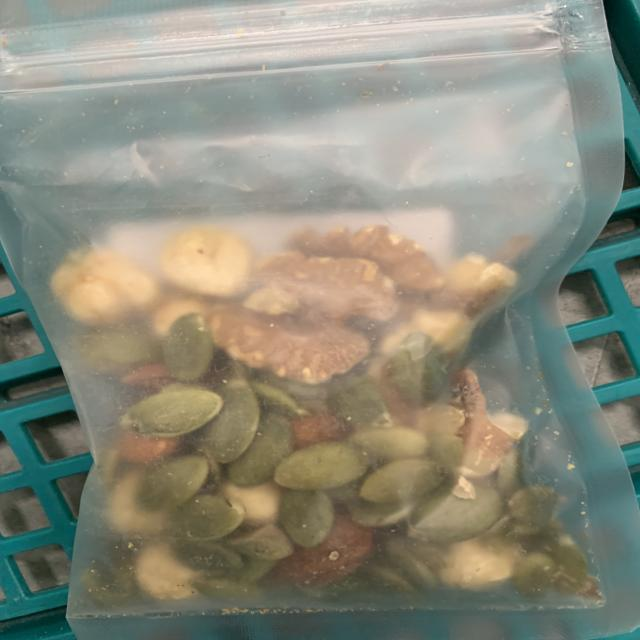object_name: (4, 0, 640, 640)
